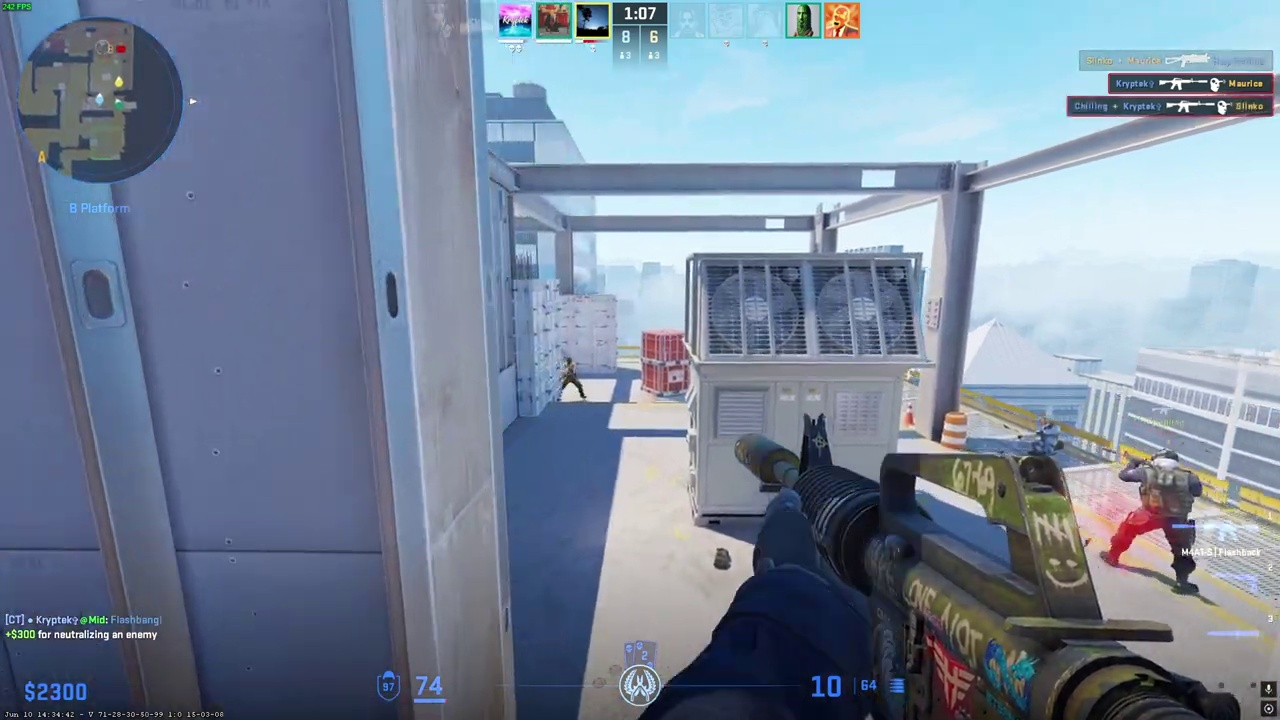CT: (1107, 447, 1202, 590)
Terrorist: (556, 357, 584, 400)
